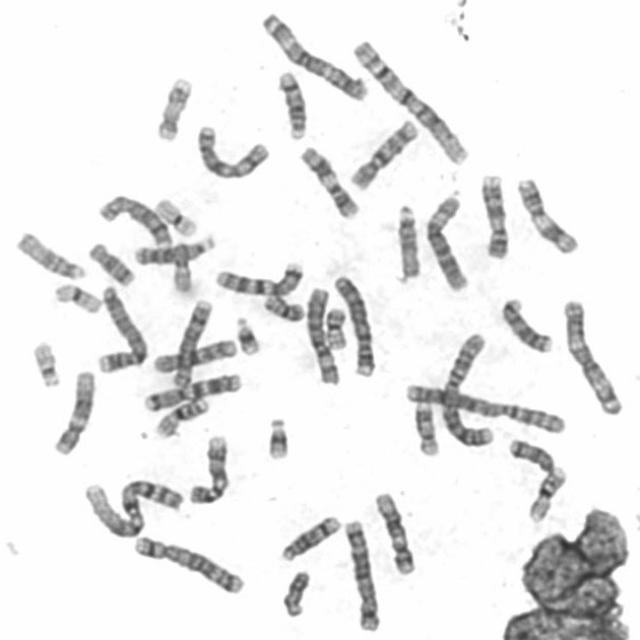A1: (346, 34, 472, 165), (78, 472, 187, 540)
A2: (398, 379, 567, 435), (436, 326, 498, 448)
A3: (255, 6, 371, 101), (556, 293, 624, 416)
B4: (90, 279, 150, 375), (328, 270, 378, 378)
B5: (127, 530, 247, 596), (338, 513, 382, 633)
C10: (344, 114, 420, 192), (147, 332, 239, 375)
C11: (510, 172, 581, 256), (294, 140, 360, 220)
C12: (46, 365, 96, 456), (369, 485, 416, 577)
C6: (418, 188, 472, 293), (301, 281, 343, 387)
C7: (137, 368, 243, 413), (208, 255, 305, 298)
C8: (92, 188, 173, 248), (168, 294, 214, 389)
C9: (184, 429, 231, 506), (474, 168, 511, 260)
D13: (494, 291, 554, 354), (129, 229, 217, 266)
D14: (274, 510, 342, 563), (271, 65, 309, 141)
D15: (9, 225, 88, 281), (390, 198, 423, 281)
E16: (150, 391, 210, 440), (522, 462, 569, 524)
E17: (149, 70, 194, 143), (409, 397, 442, 458)
E18: (82, 236, 137, 288), (503, 433, 557, 474)
F19: (149, 192, 199, 239), (48, 277, 104, 316)
F20: (258, 289, 306, 322), (320, 302, 349, 350)
G21: (260, 411, 292, 462), (230, 311, 263, 357)
G22: (161, 243, 203, 296), (25, 334, 63, 388)
X: (191, 118, 272, 182)
Y: (276, 565, 313, 618)
